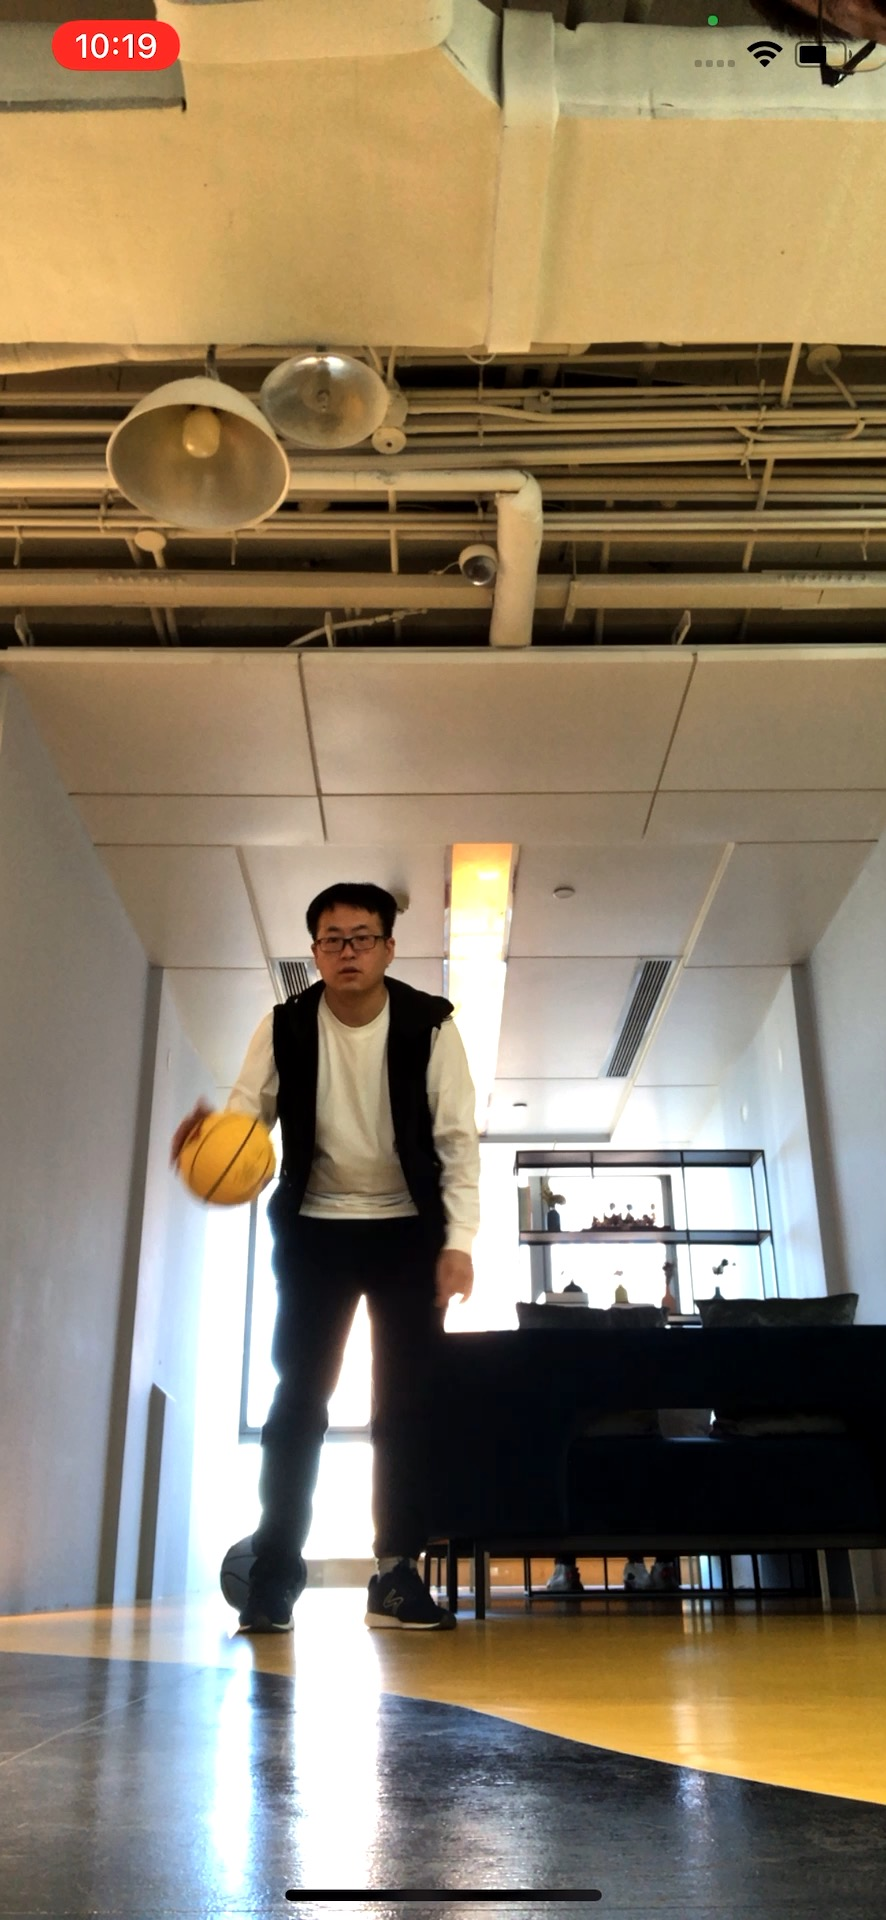ball: (180, 1106, 280, 1206)
